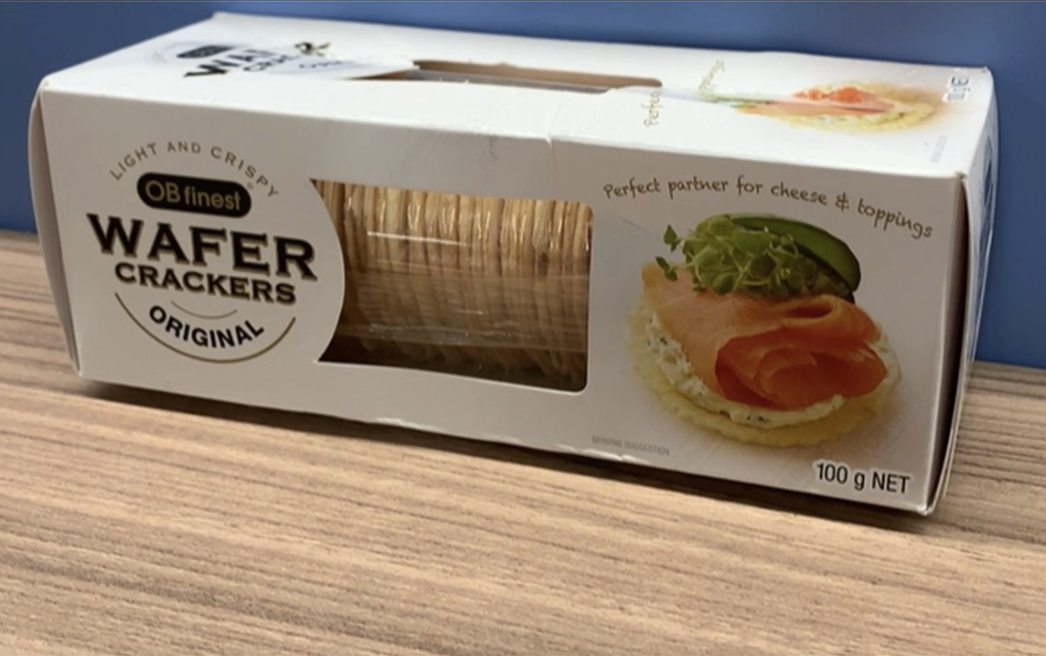crackers_100g-199g: (85, 122, 927, 503)
